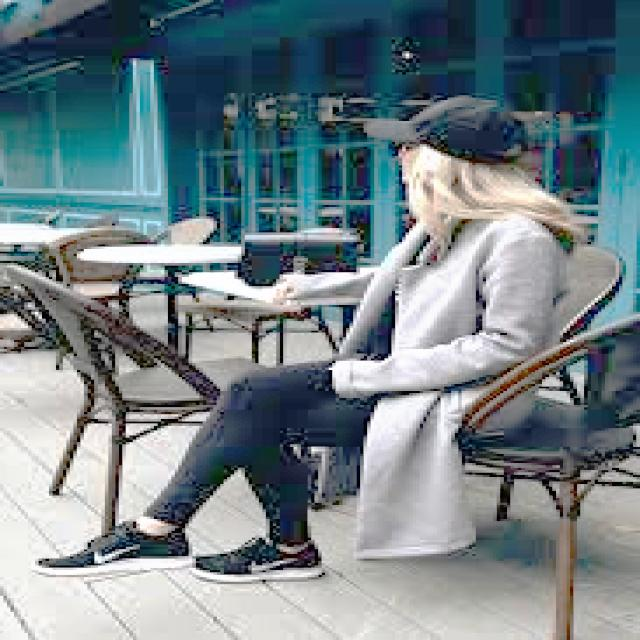TOPI: (360, 90, 539, 168)
